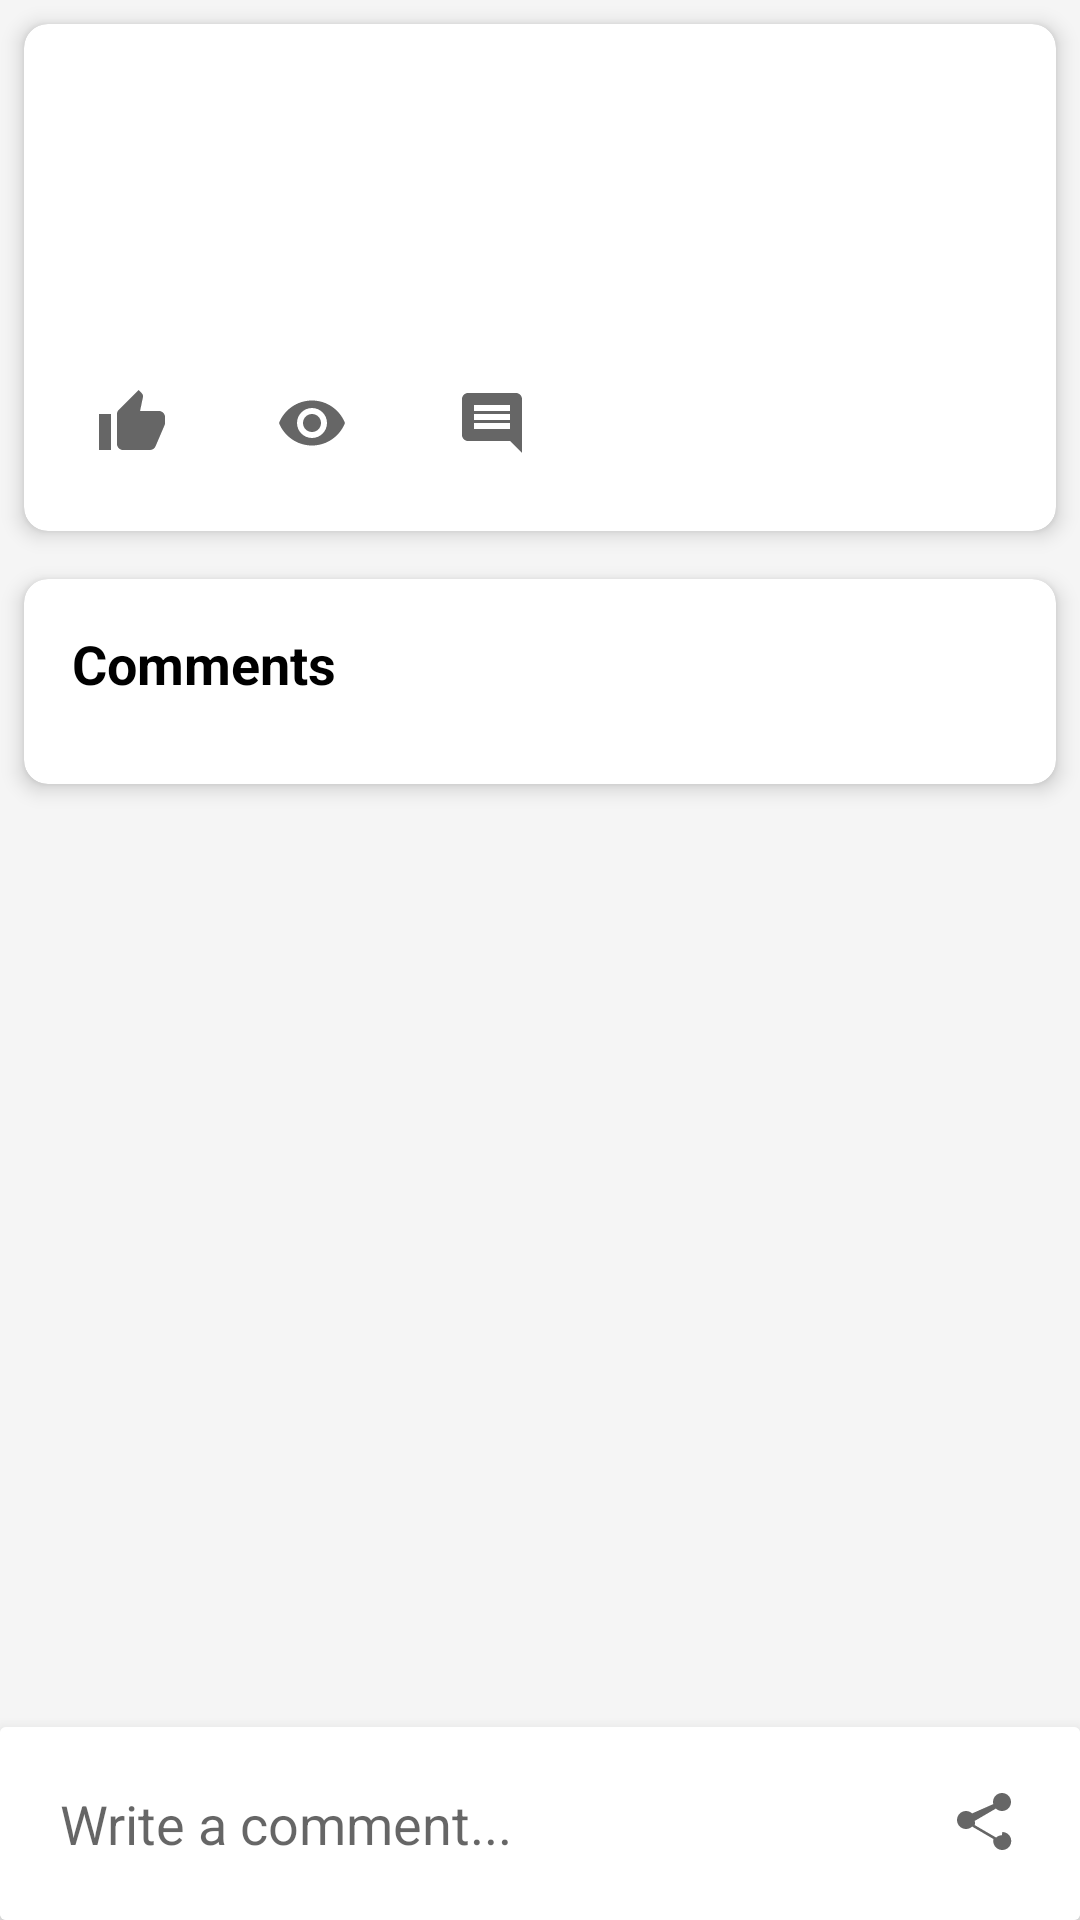

Icon bounding boxes for this 1080w x 1920h phone screenshot, format BBox(x1, y1, x2, y2):
Comments: BBox(462, 393, 522, 453)
Like: BBox(99, 390, 165, 450)
Views: BBox(279, 400, 345, 446)
